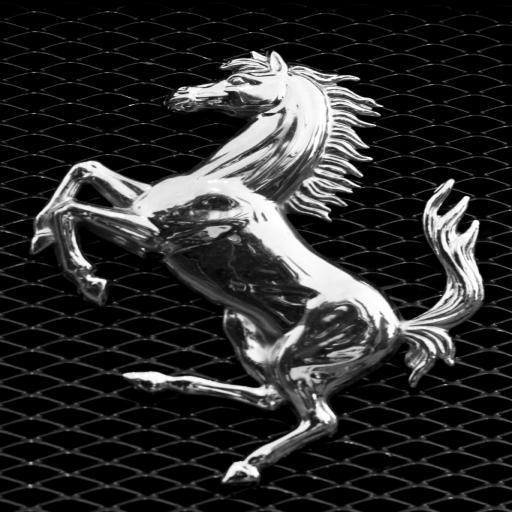horse: (27, 48, 484, 482)
